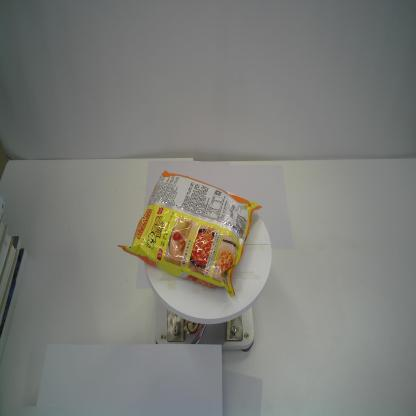Instant Noodles: (116, 170, 262, 298)
